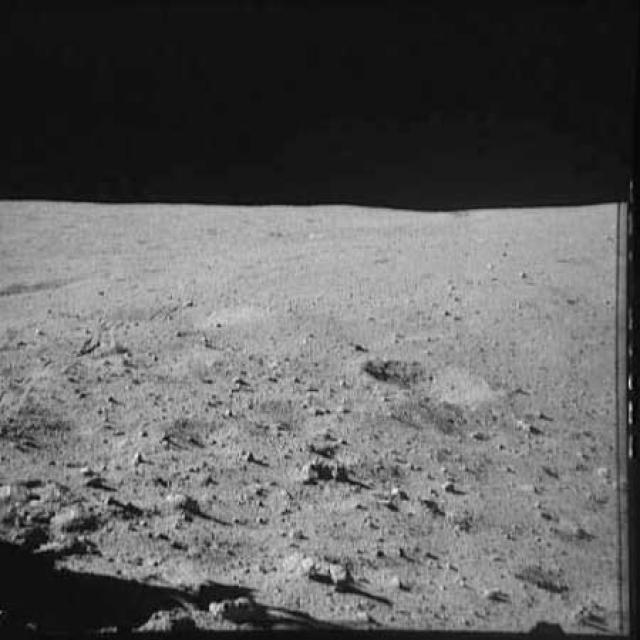crater: (356, 346, 504, 416), (499, 552, 623, 617), (52, 294, 216, 330), (226, 392, 330, 442), (156, 411, 249, 459), (0, 268, 89, 306), (41, 412, 103, 444)
rock: (276, 538, 369, 593), (36, 496, 124, 534), (202, 586, 274, 628), (126, 600, 202, 638), (290, 456, 358, 488), (156, 479, 210, 516)
